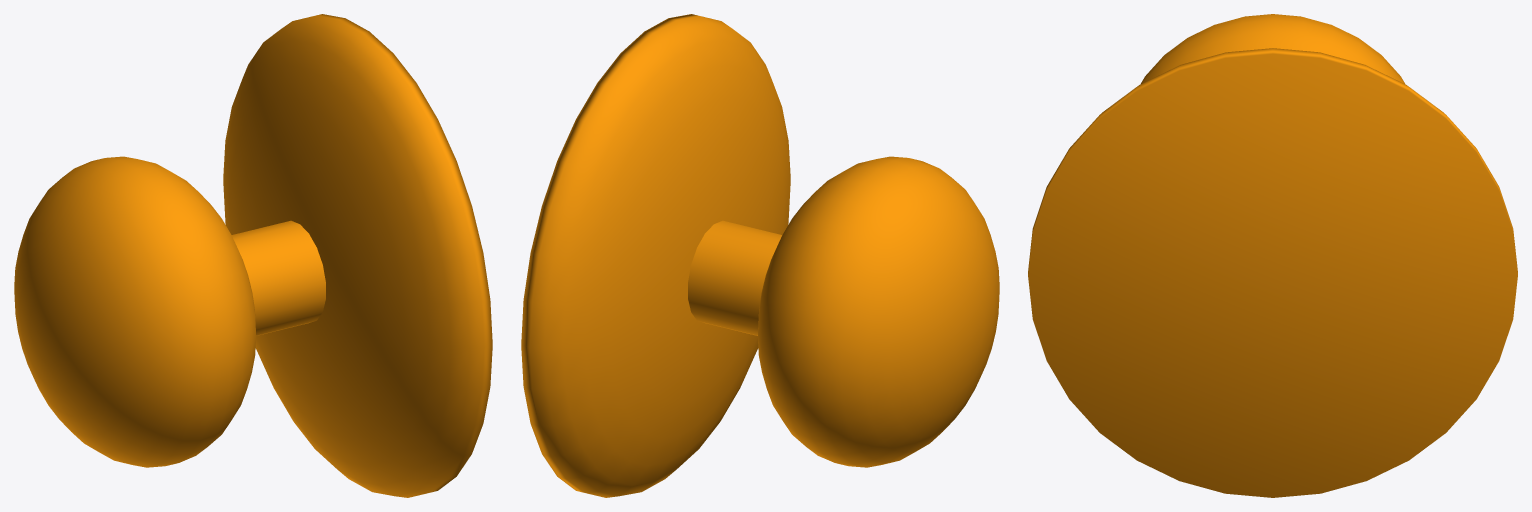
File: DoorKnob.fbx
The picture shows the model from 3 angles, left to right: view 1: azimuth 30°, elevation 25°; view 2: azimuth 150°, elevation 25°; view 3: azimuth 270°, elevation 25°; orthographic projection.
Parts seen in each view (by area): view 1: DoorKnob001; view 2: DoorKnob001; view 3: DoorKnob001.
Part boxes in pixels (x1=…): DoorKnob001: x1=14, y1=14, x2=492, y2=497; DoorKnob001: x1=521, y1=14, x2=999, y2=497; DoorKnob001: x1=1028, y1=14, x2=1517, y2=497.
Bounding box in the file's own units: 6.55 × 8.56 × 8.56.
